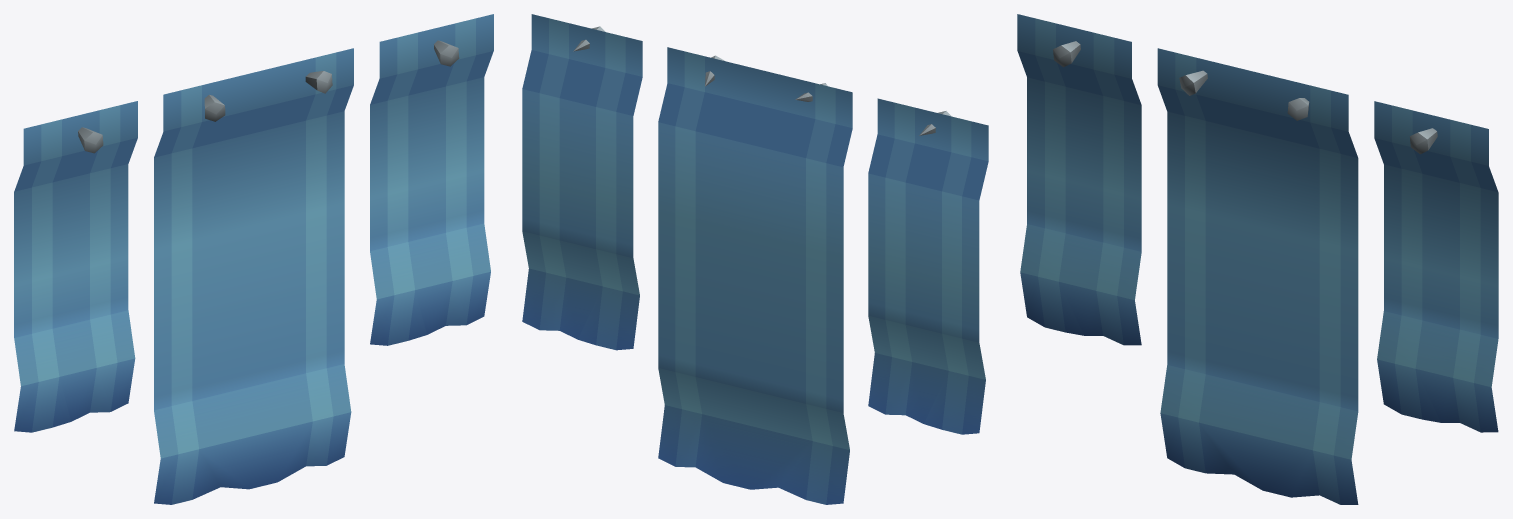
Rendered from banner_triple_blue.gltf.
3 views of the same model, side by side, from view 1: azimuth 30°, elevation 25°; view 2: azimuth 150°, elevation 25°; view 3: azimuth 330°, elevation 25° (orthographic). The views are drawn at different scales.
Visible parts, largest first — view 1: banner_triple_blue; view 2: banner_triple_blue; view 3: banner_triple_blue.
Part boxes in pixels (x1,y1,x2,y2): banner_triple_blue: [14, 14, 493, 504]; banner_triple_blue: [522, 14, 988, 504]; banner_triple_blue: [1017, 14, 1498, 504].
Bounding box in the file's own units: 3.7 × 3.2 × 0.3623.
Materials: 1 (1 with a texture image).
